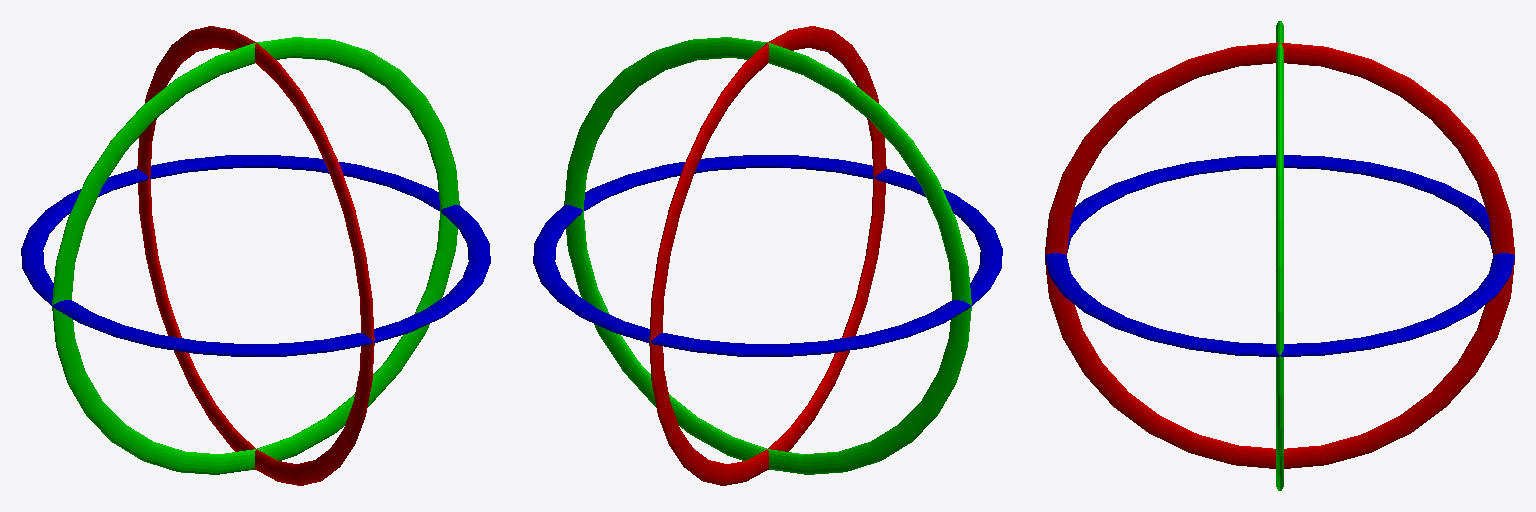
File: rotate2.obj
3 views of the same model, side by side, from view 1: azimuth 30°, elevation 25°; view 2: azimuth 150°, elevation 25°; view 3: azimuth 270°, elevation 25° (orthographic).
Parts seen in each view (by area): view 1: Torus, Torus.001, Torus.002; view 2: Torus, Torus.001, Torus.002; view 3: Torus.002, Torus.001, Torus.
Part boxes in pixels (bbox=[...]): Torus: bbox=[52, 37, 459, 474]; Torus.001: bbox=[21, 155, 490, 356]; Torus.002: bbox=[137, 26, 374, 485]; Torus: bbox=[564, 37, 971, 474]; Torus.001: bbox=[533, 155, 1002, 356]; Torus.002: bbox=[649, 26, 886, 485]; Torus.002: bbox=[1045, 43, 1514, 468]; Torus.001: bbox=[1045, 155, 1514, 356]; Torus: bbox=[1276, 21, 1283, 490].
Bounding box in the file's own units: 2.1 × 2.1 × 2.1.